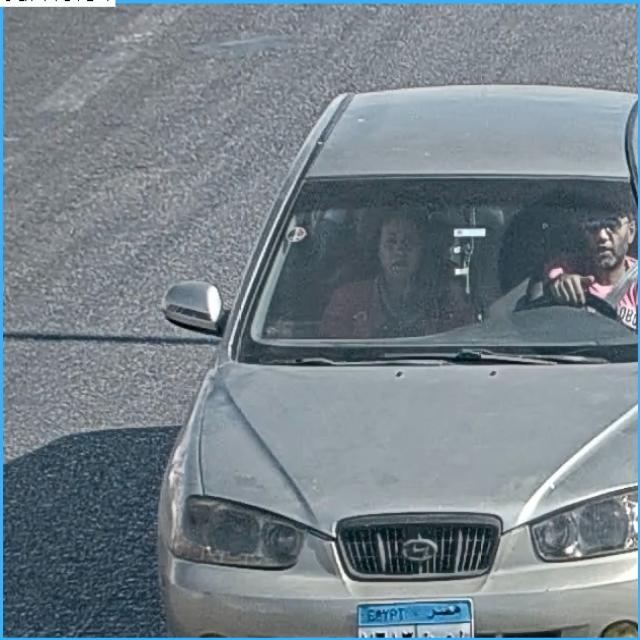windshield: (245, 178, 640, 337)
